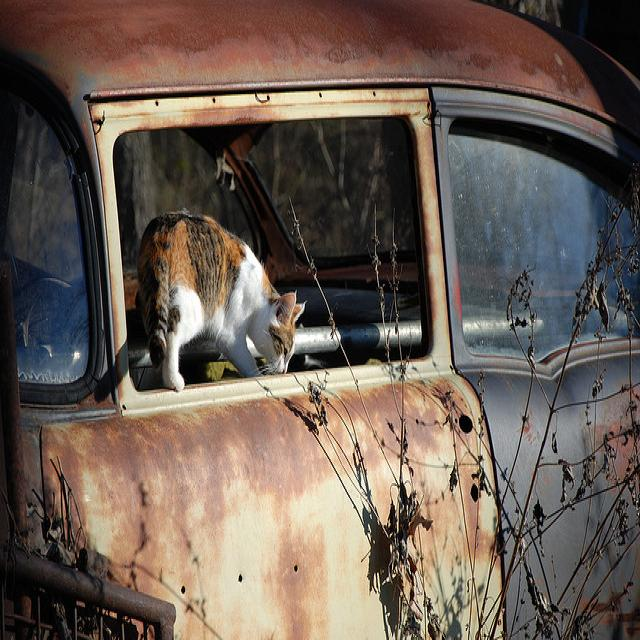Vehicle: (3, 2, 639, 633)
